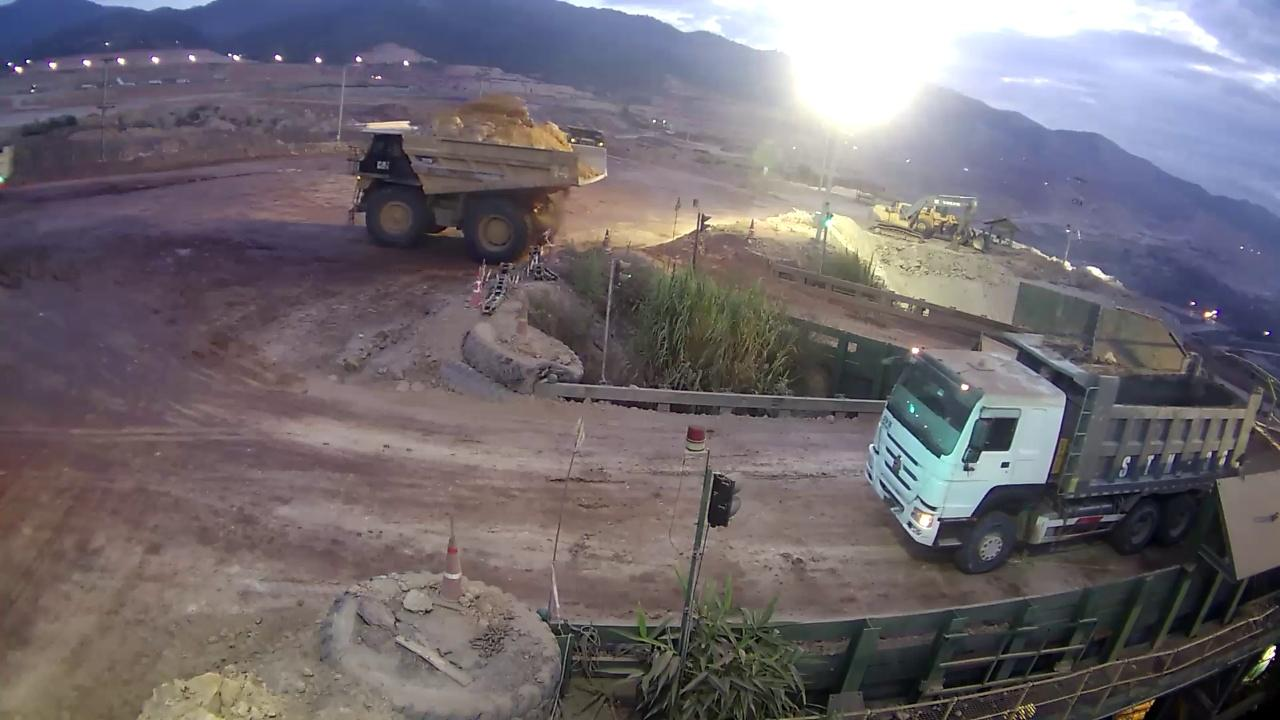full_load: (427, 84, 589, 152)
mining_truck: (345, 76, 608, 263)
tail_number: (546, 159, 579, 182)
